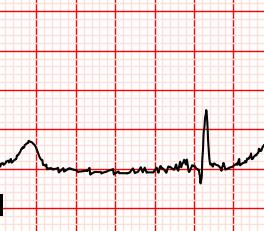Pathological Q Wave: (190, 162, 211, 187)
